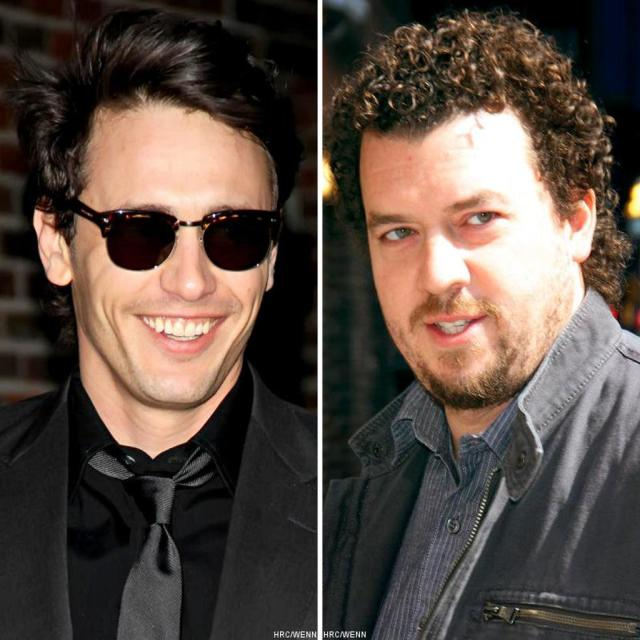Face: (54, 101, 277, 444), (364, 107, 607, 416)
